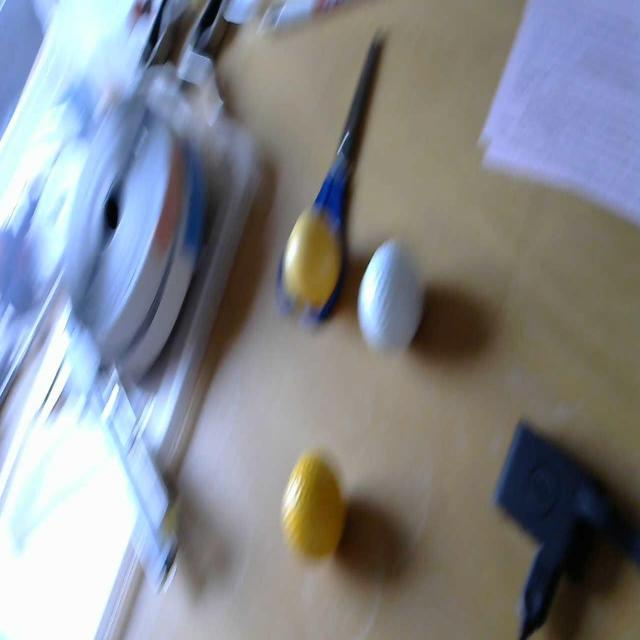golfball: (279, 442, 356, 578), (354, 233, 426, 369), (282, 205, 344, 327)
